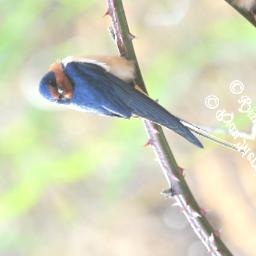Swallow: (27, 4, 251, 228)
